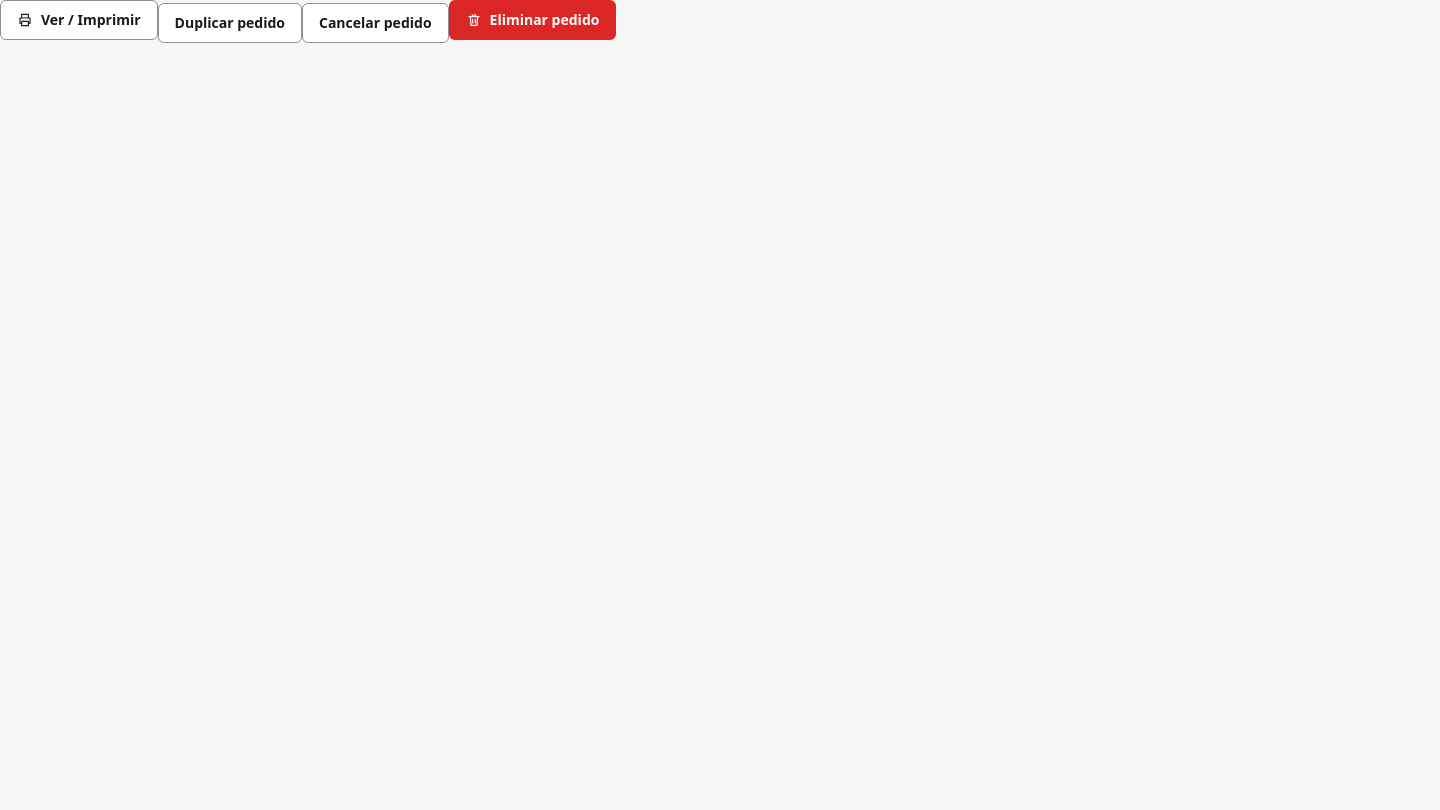
Test: Acciones del documento (Fase 13) › Cancelar: «Volver» cierra sin ejecutar nada
Click the button "Cancelar pedido".
click(375, 23)  # box [302,3,449,43]
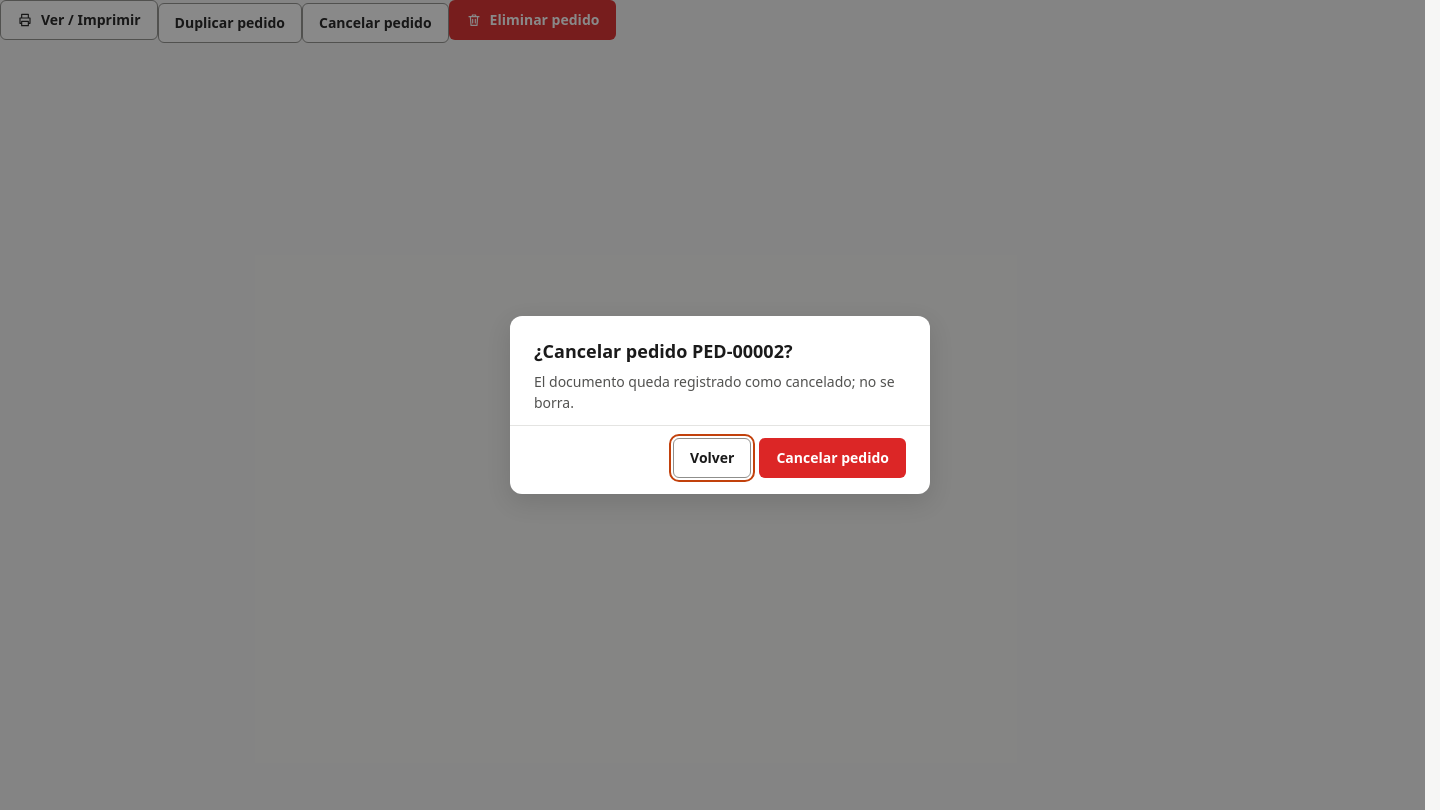
Expected: the dialog "¿Cancelar pedido PED-00002?" is shown, [510,316,930,494]
Click the button "Volver".
click(712, 458)  # box [673,438,752,478]
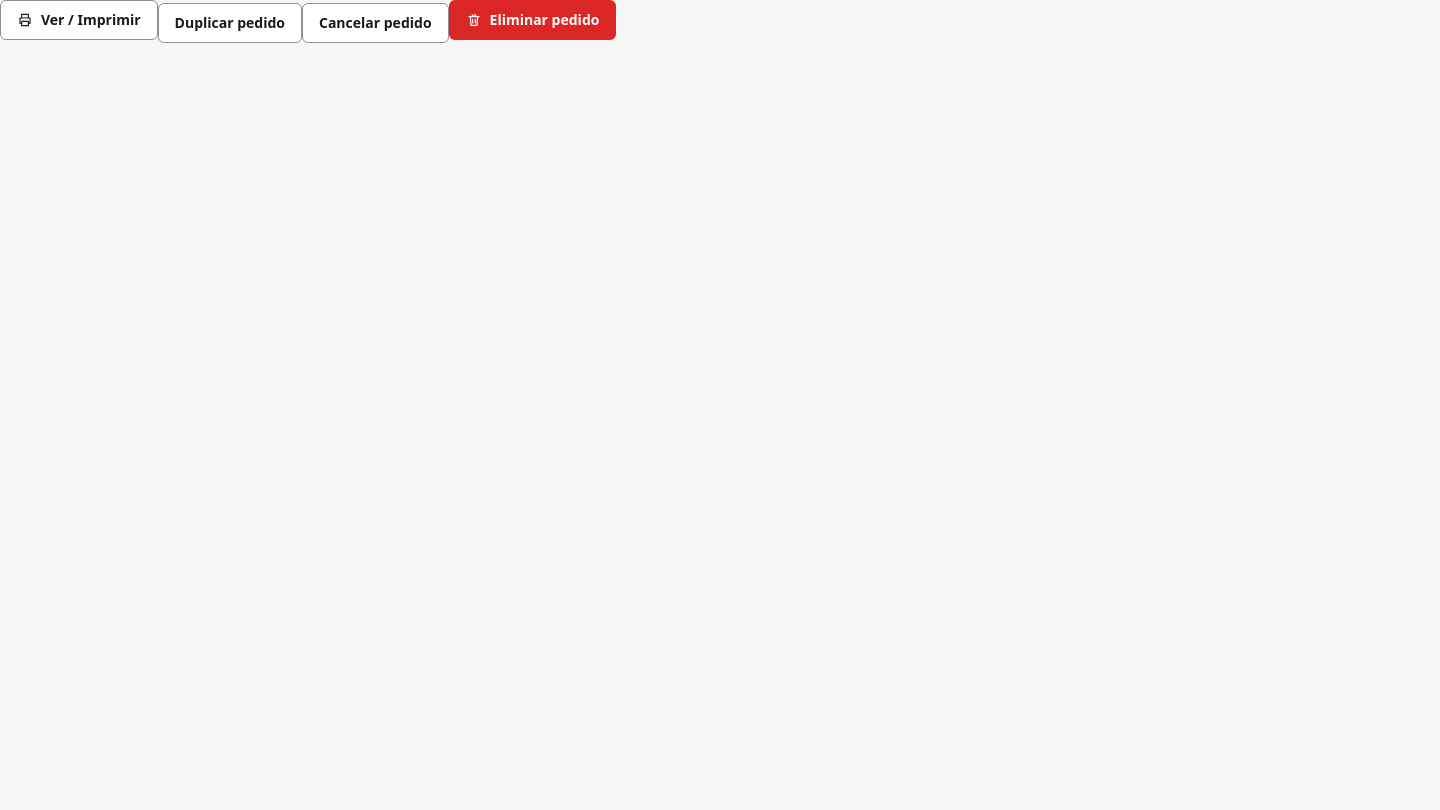
Expected: the dialog is gone
